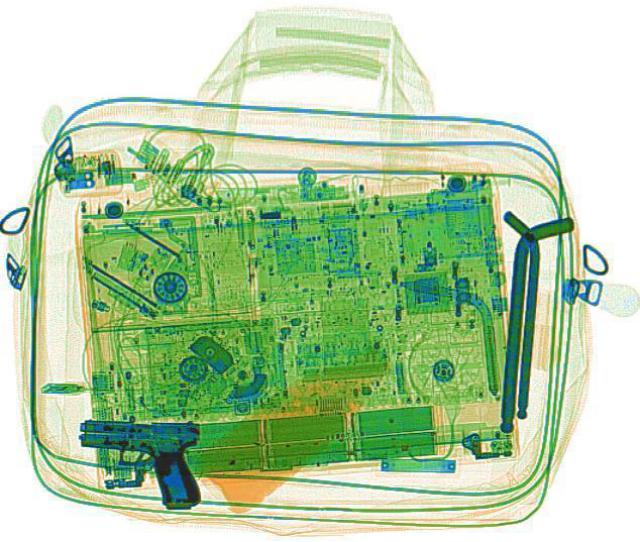Gun: (68, 415, 205, 508)
